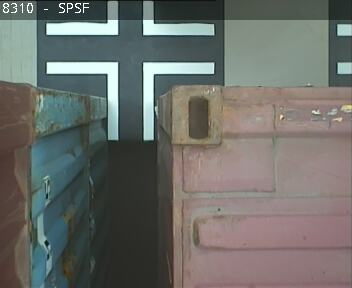groundmarker_1: (46, 60, 215, 140), (46, 1, 213, 37)
